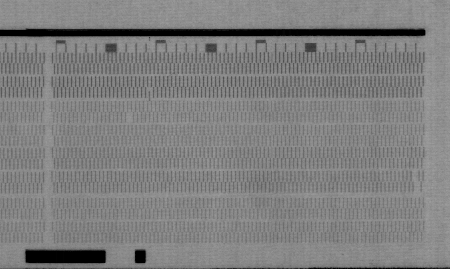Broken hole: (410, 171, 424, 195), (124, 111, 135, 124)
Oblique printing: (143, 85, 156, 103)
